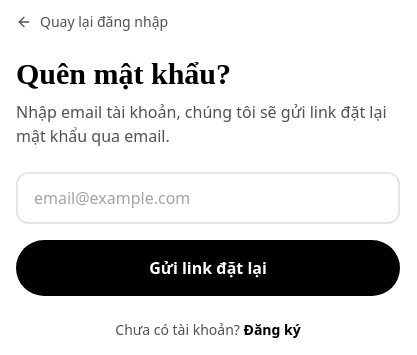
Test: <ForgotPasswordPage /> › shows loading state during submission
The image size is (417, 355).
In the field with placeholder "email@example.com": (208,198) [16,172,400,224], type "user@test.com"
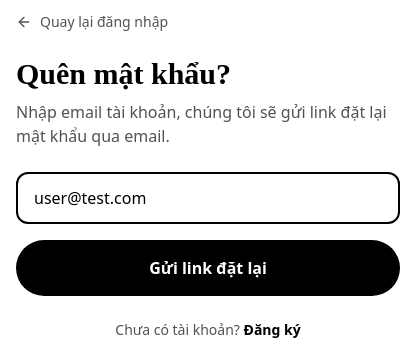
Click the button "Gửi link đặt lại": (208,268) [16,240,400,296]
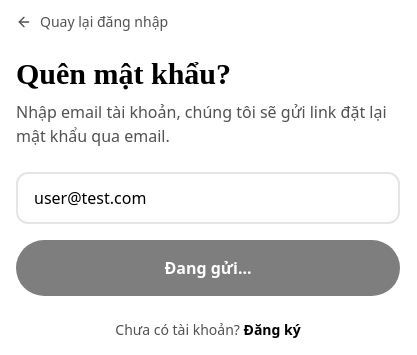
Expected: the button shows "Đang gửi", [16,240,400,296]
Expected: the button is disabled, [16,240,400,296]
